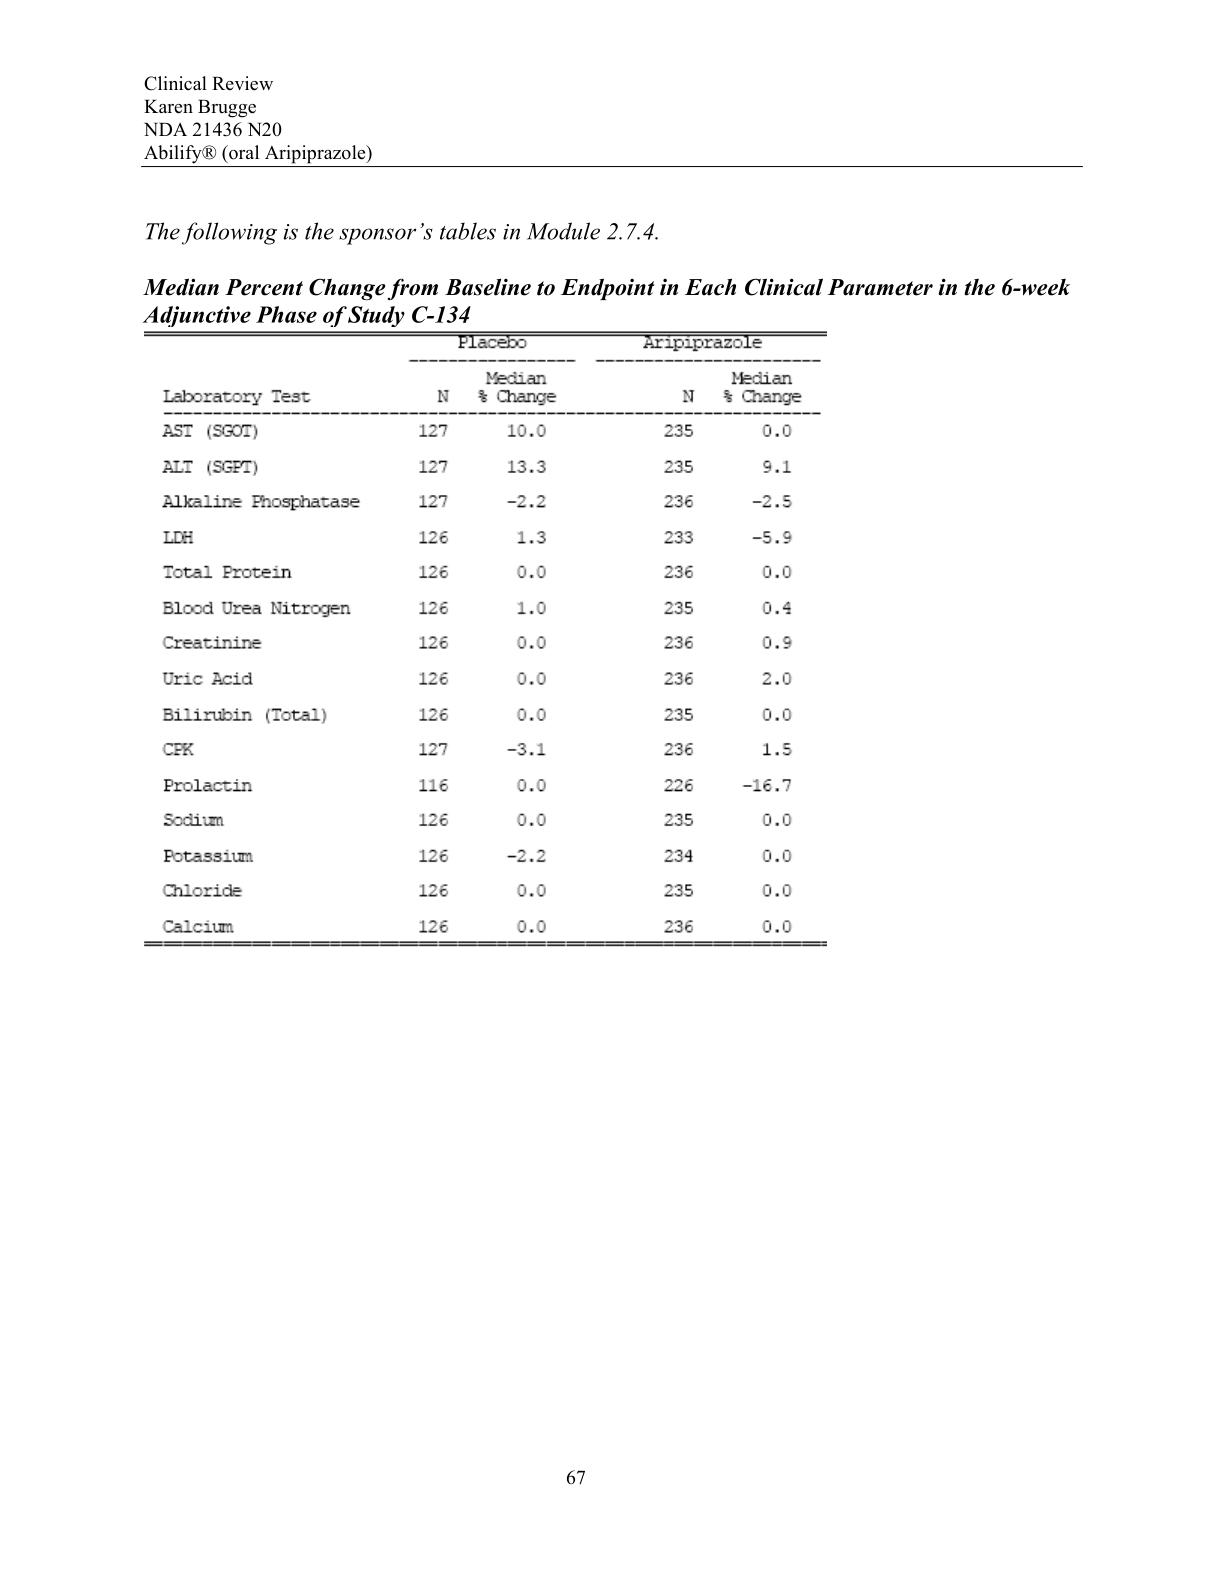partial_lined_merged_cells: (143, 329, 832, 948)
